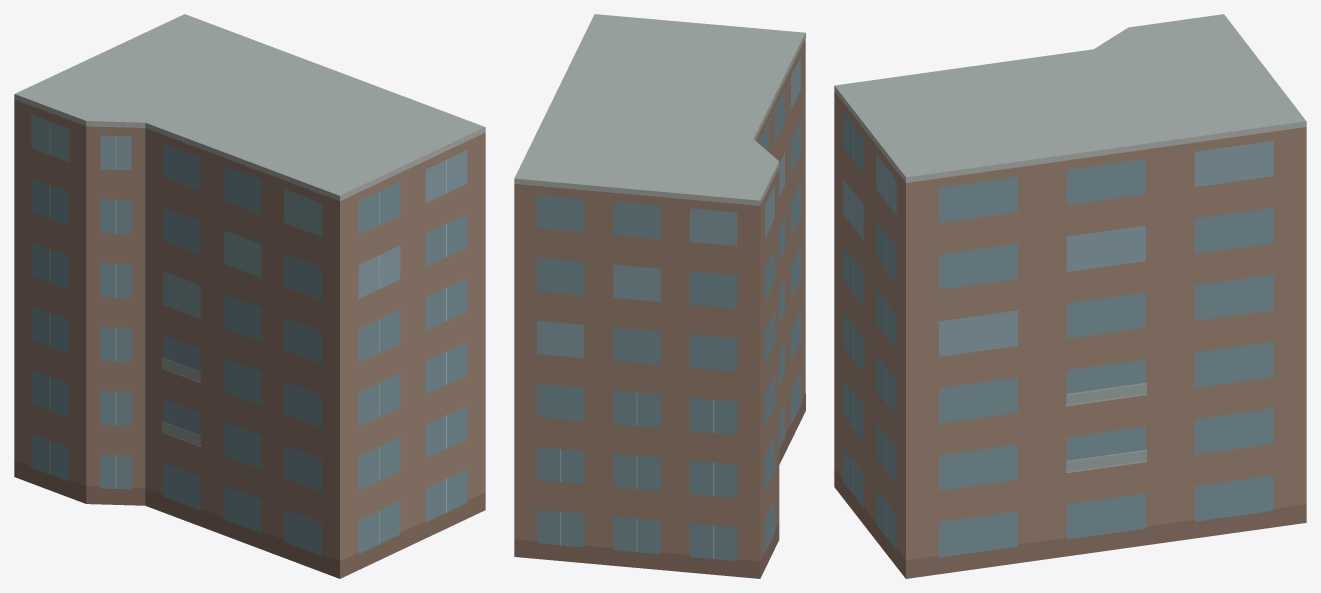
File: survey-upis-33017951.glb
3 views of the same model, side by side, from view 1: azimuth 30°, elevation 25°; view 2: azimuth 150°, elevation 25°; view 3: azimuth 270°, elevation 25° (orthographic). The views are drawn at different scales.
Parts seen in each view (by area): view 1: survey-upis-33017951.tmp; view 2: survey-upis-33017951.tmp; view 3: survey-upis-33017951.tmp.
Part boxes in pixels (left/top/right/bottom): survey-upis-33017951.tmp: left=14, top=14, right=485, bottom=578; survey-upis-33017951.tmp: left=514, top=14, right=805, bottom=578; survey-upis-33017951.tmp: left=834, top=14, right=1306, bottom=578.
Bounding box in the file's own units: 15.11 × 17.3 × 18.45.
